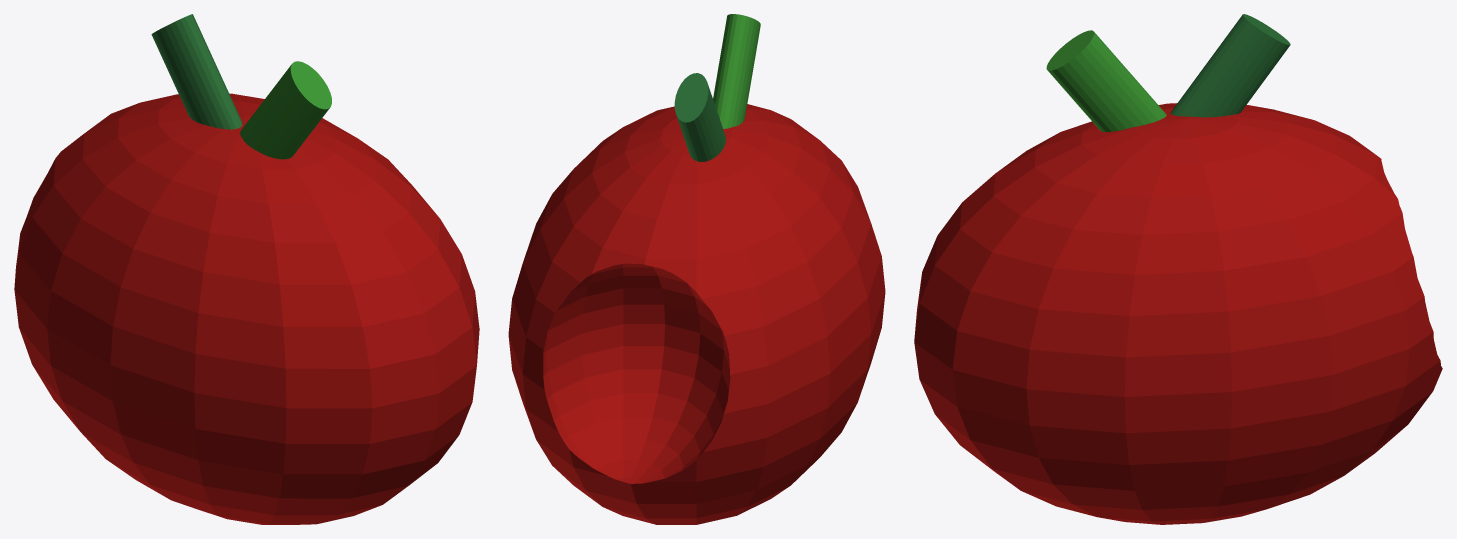
File: apple.fbx
The picture shows the model from 3 angles, left to right: view 1: azimuth 30°, elevation 25°; view 2: azimuth 150°, elevation 25°; view 3: azimuth 270°, elevation 25°; orthographic projection. The views are drawn at different scales.
Parts seen in each view (by area): view 1: Sphere.002; view 2: Sphere.002; view 3: Sphere.002.
Part boxes in pixels (box(x1,y1,x2,y2)): Sphere.002: box(14, 14, 479, 524); Sphere.002: box(508, 14, 885, 524); Sphere.002: box(914, 14, 1442, 524).
Bounding box in the file's own units: 36.91 × 49.09 × 49.25.
